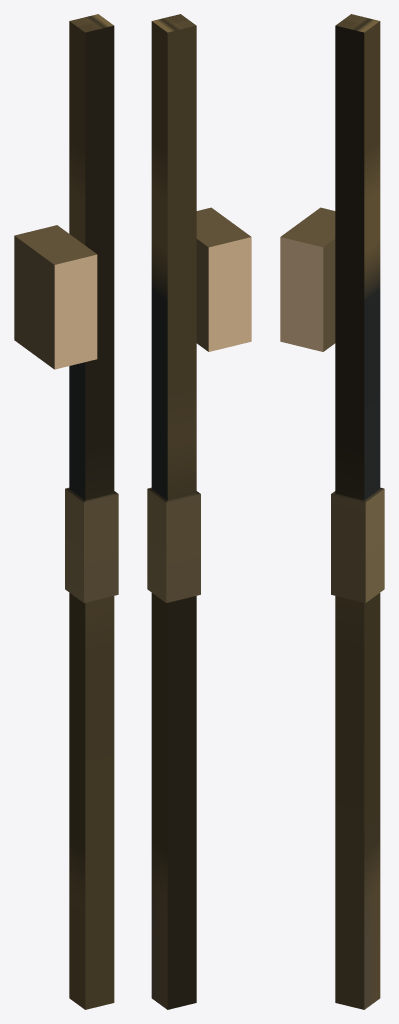
Rendered from SM_Env_Power_Pole_01.gltf.
The picture shows the model from 3 angles, left to right: view 1: azimuth 30°, elevation 25°; view 2: azimuth 210°, elevation 25°; view 3: azimuth 330°, elevation 25°; orthographic projection.
Parts seen in each view (by area): view 1: SM_Env_Power_Pole_01; view 2: SM_Env_Power_Pole_01; view 3: SM_Env_Power_Pole_01.
Part boxes in pixels (x1,y1,x2,y2): SM_Env_Power_Pole_01: (14,14,118,1009); SM_Env_Power_Pole_01: (147,14,251,1009); SM_Env_Power_Pole_01: (280,14,384,1009).
Size of the model in its own units: 0.7473 by 9.34 by 0.6965.
1 material, 1 textured.
